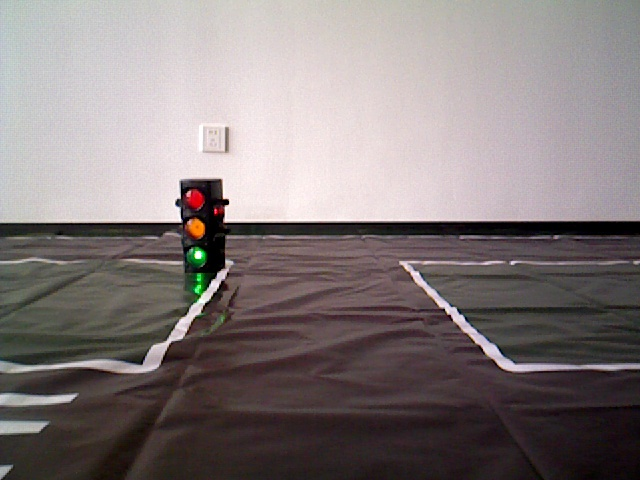green: (180, 183, 222, 267)
